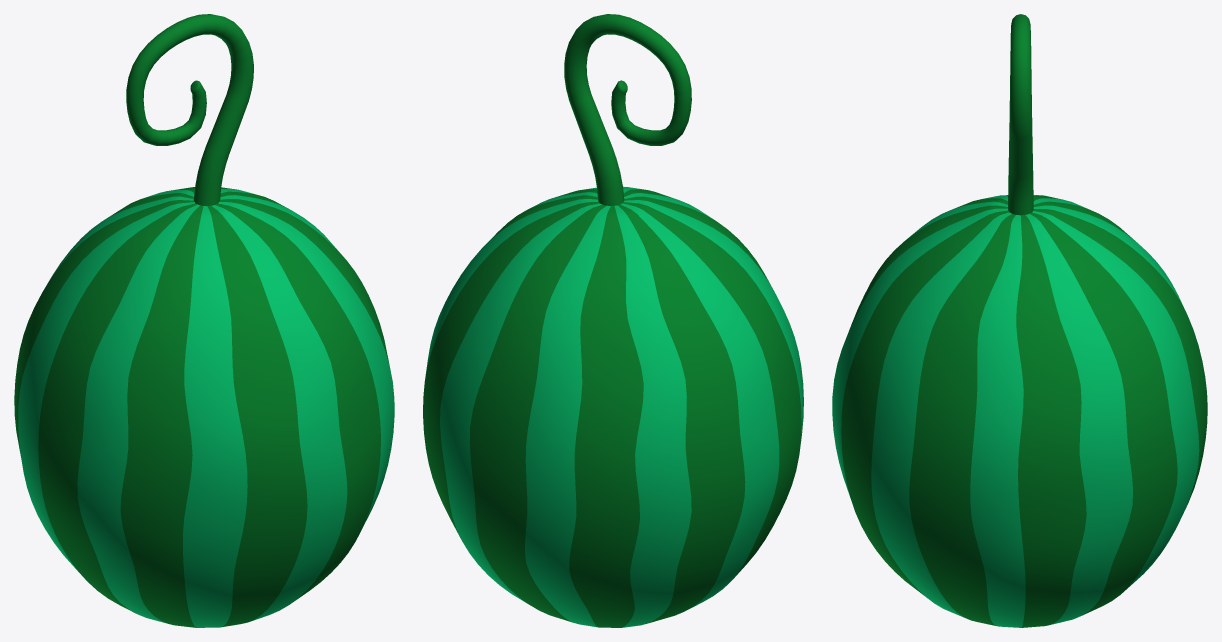
The model's file is Store_19_Watermelon_2.glb.
3 renders of one model, left to right at view 1: azimuth 30°, elevation 25°; view 2: azimuth 150°, elevation 25°; view 3: azimuth 270°, elevation 25°, orthographic.
Visible parts, largest first — view 1: Store_19_Watermelon_2; view 2: Store_19_Watermelon_2; view 3: Store_19_Watermelon_2.
Boxes of the visible parts, box(x1,y1,x2,y2) form: Store_19_Watermelon_2: box(14, 14, 394, 627); Store_19_Watermelon_2: box(423, 14, 803, 627); Store_19_Watermelon_2: box(832, 14, 1207, 627).
Bounding box in the file's own units: 0.8127 × 1.4 × 0.8115.
1 material, 1 textured.
